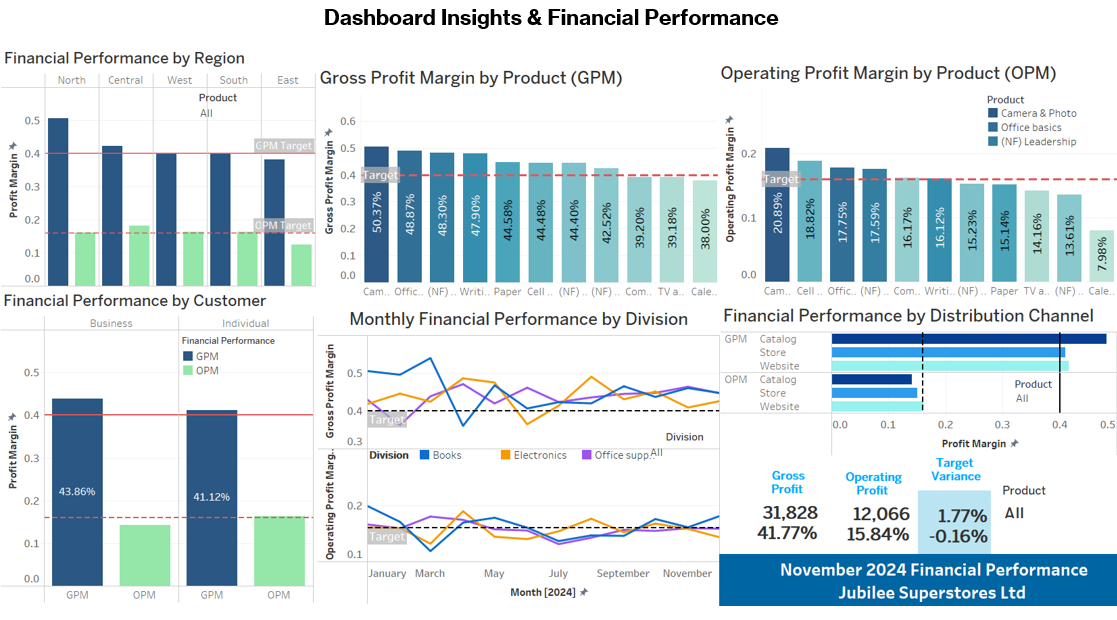

Layout of this report page (visuals, bound fields, positions):
{"tool":"tableau","page":{"name":"Financial Dashboard","canvas":[1000,1000],"units":"permille","ordinal":0},"visuals":[{"type":"worksheet","title":"Region","mark":"Automatic","cols":["Region"],"box":[3,23.5,280.6,420.7]},{"type":"worksheet","title":"Operating Profit Margin ","mark":"Automatic","rows":["Calculation_282319411846873088"],"cols":["Product"],"box":[642.7,48.2,357.3,434.8]},{"type":"worksheet","title":"Gross Profit Margin","mark":"Bar","rows":["Calculation_688487803096850437"],"cols":["Product"],"box":[284.9,56.4,360.9,427.7]},{"type":"filter","title":"Customer Type","param":"[federated.07rqdtt0knpbat1erzo9p1yo6z0l].[none:Product:nk]","box":[179.1,104.6,101.6,51.7]},{"type":"legend","title":"Gross Profit Margin","param":"[federated.07rqdtt0knpbat1erzo9p1yo6z0l].[none:Product:nk]","box":[882.2,104.6,108.2,99.9]},{"type":"worksheet","title":"Customer Type","mark":"Automatic","cols":["Customer type"],"box":[2.4,445.4,279.4,549.9]},{"type":"worksheet","title":"Distribution Channel","mark":"Automatic","rows":["Distribution channel"],"box":[645.1,470,354.2,317.3]},{"type":"worksheet","title":"Division","mark":"Automatic","rows":["Calculation_688487803096850437","Calculation_282319411846873088"],"cols":["Date"],"box":[285.5,475.9,359.4,521.7]},{"type":"legend","title":"Region","param":"[federated.07rqdtt0knpbat1erzo9p1yo6z0l].[:Measure Names]","box":[163.5,527.6,119,75.2]},{"type":"filter","title":"Distribution Channel","param":"[federated.07rqdtt0knpbat1erzo9p1yo6z0l].[none:Product:nk]","box":[907.7,600.5,83.9,49.4]},{"type":"filter","title":"Division","param":"[federated.07rqdtt0knpbat1erzo9p1yo6z0l].[none:Division:nk]","box":[581.2,694.5,64,78.7]},{"type":"legend","title":"Division","param":"[federated.07rqdtt0knpbat1erzo9p1yo6z0l].[none:Division:nk]","box":[331.3,725,255.9,32.9]},{"type":"worksheet","title":"Variance","mark":"Automatic","box":[821.5,732.1,69.1,196.2]},{"type":"worksheet","title":"Gross Profit","mark":"Automatic","box":[674.3,754.4,63.1,199.8]},{"type":"filter","title":"Variance","param":"[federated.07rqdtt0knpbat1erzo9p1yo6z0l].[none:Product:nk]","box":[896.8,786.1,96.6,61.1]}]}

Visuals, with their boxes on the dashboard's canvas, which has no fixed pixel size, in thousandths of its width and height (x1, y1, x2, y2). These are canvas units, not pixel positions in the 1117x620 screenshot, which may show the page scaled, cropped or inside an application window:
"Region" worksheet: bbox=(3, 24, 284, 444)
"Operating Profit Margin " worksheet: bbox=(643, 48, 1000, 483)
"Gross Profit Margin" worksheet (Bar marks): bbox=(285, 56, 646, 484)
"Customer Type" filter: bbox=(179, 105, 281, 156)
"Gross Profit Margin" legend: bbox=(882, 105, 990, 204)
"Customer Type" worksheet: bbox=(2, 445, 282, 995)
"Distribution Channel" worksheet: bbox=(645, 470, 999, 787)
"Division" worksheet: bbox=(286, 476, 645, 998)
"Region" legend: bbox=(164, 528, 282, 603)
"Distribution Channel" filter: bbox=(908, 600, 992, 650)
"Division" filter: bbox=(581, 694, 645, 773)
"Division" legend: bbox=(331, 725, 587, 758)
"Variance" worksheet: bbox=(822, 732, 891, 928)
"Gross Profit" worksheet: bbox=(674, 754, 737, 954)
"Variance" filter: bbox=(897, 786, 993, 847)
